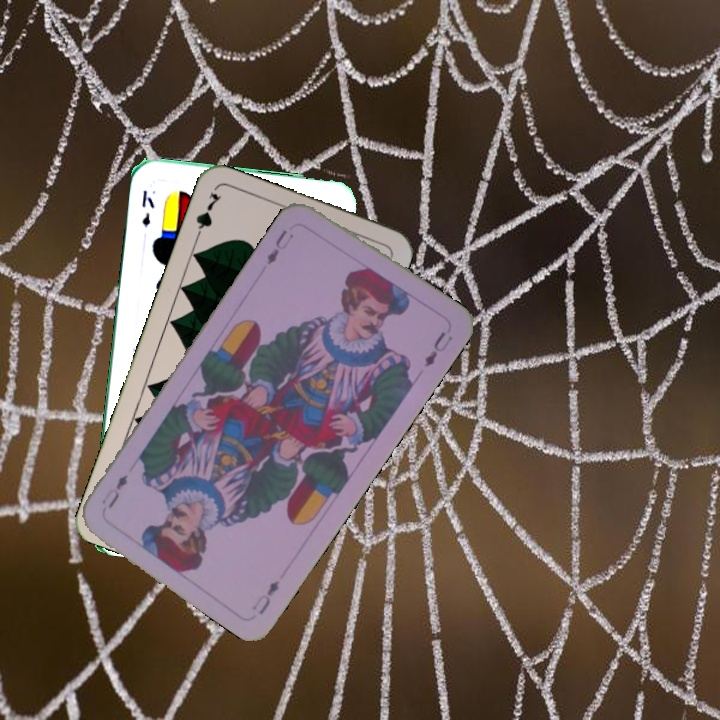EK: (138, 185, 157, 229)
EU: (247, 576, 283, 618), (262, 225, 297, 268)
G7: (190, 188, 224, 245)
